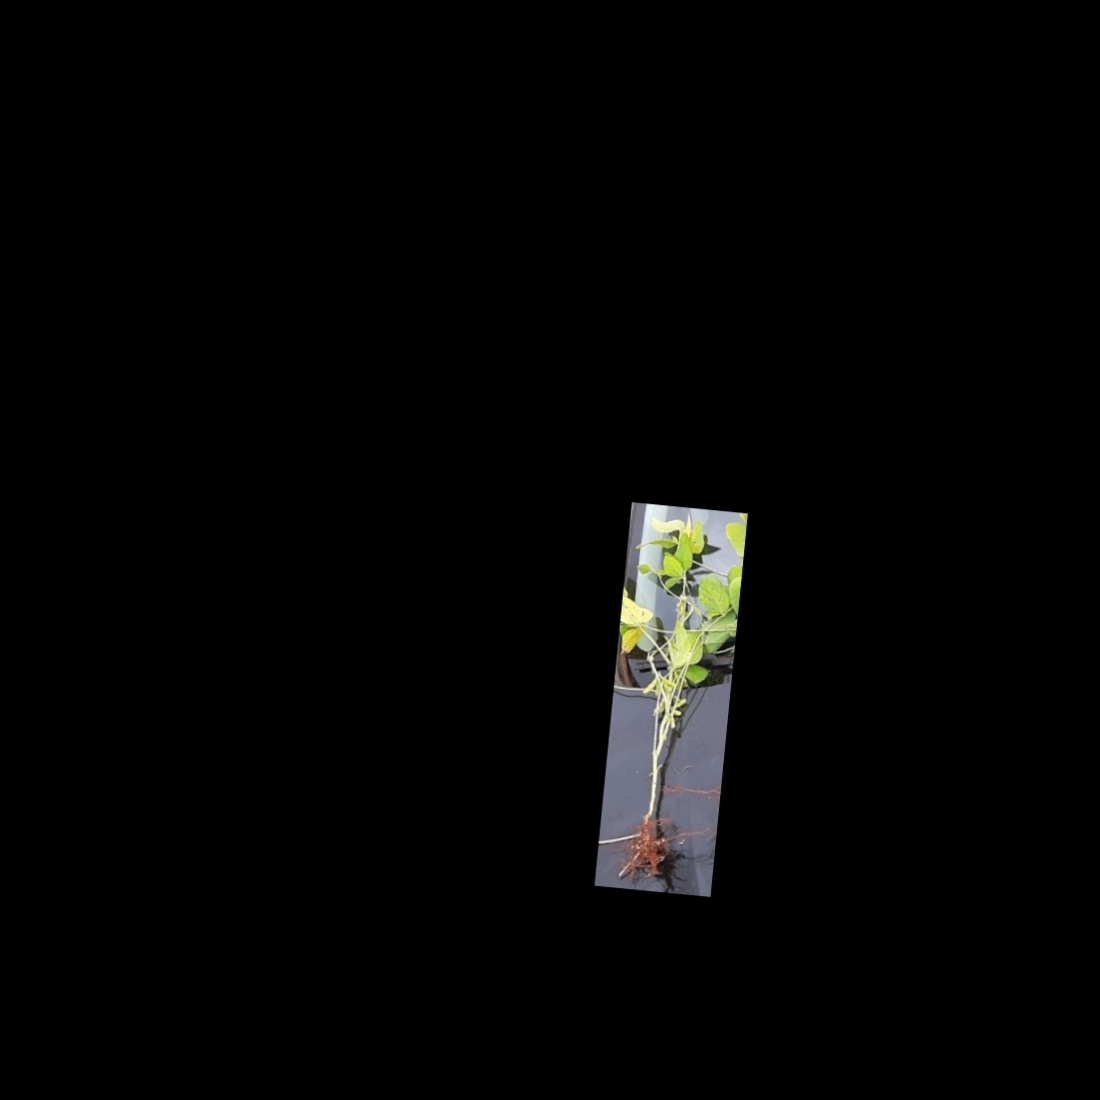pod: (639, 674, 659, 697), (675, 695, 689, 712), (668, 714, 678, 732)
soy: (598, 516, 738, 882)
